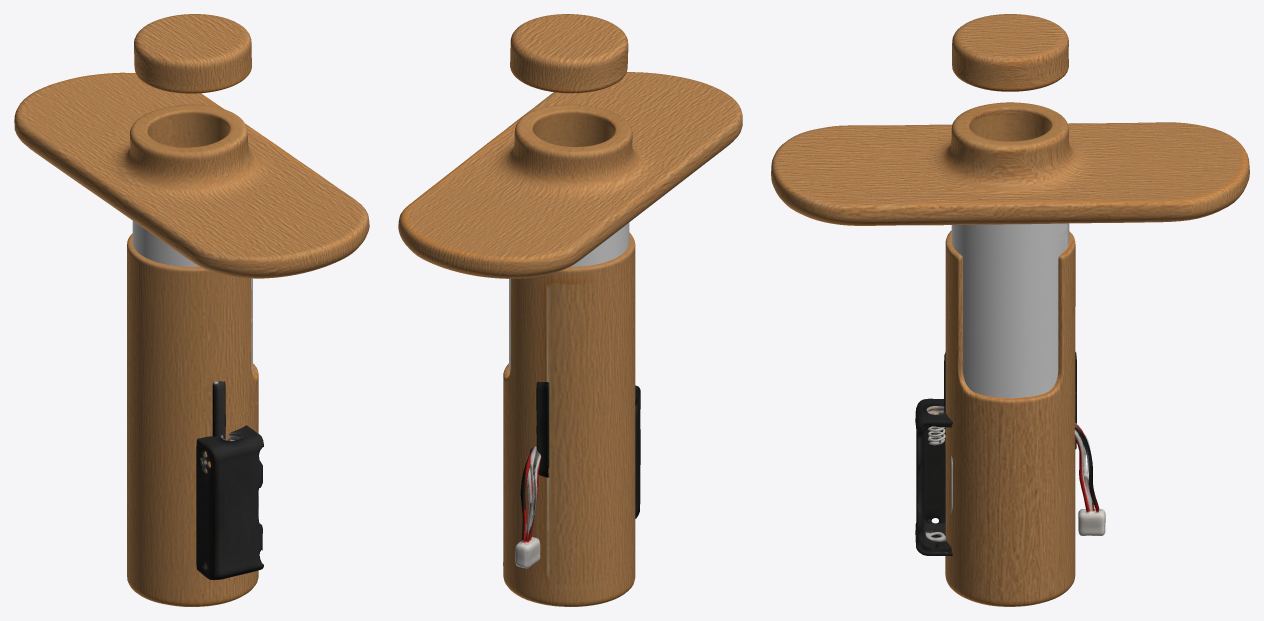
The model's file is lamp_01_assembly.glb.
The picture shows the model from 3 angles, left to right: view 1: azimuth 30°, elevation 25°; view 2: azimuth 150°, elevation 25°; view 3: azimuth 270°, elevation 25°; orthographic projection.
Visible parts, largest first — view 1: Ljomveg_Shade, Ljomveg_Trunk, Ljomveg_Battery, Ljomveg_Finial, Ljomveg_Diffuser, micro-bit; view 2: Ljomveg_Shade, Ljomveg_Trunk, Ljomveg_Finial, Ljomveg_Battery, micro-bit, Ljomveg_Diffuser; view 3: Ljomveg_Shade, Ljomveg_Trunk, Ljomveg_Diffuser, Ljomveg_Finial, Ljomveg_Battery.
Boxes of the visible parts, x1,y1,x2,y2 form: Ljomveg_Shade: [14, 72, 369, 278]; Ljomveg_Trunk: [127, 233, 258, 606]; Ljomveg_Battery: [196, 425, 263, 579]; Ljomveg_Finial: [134, 14, 251, 93]; Ljomveg_Diffuser: [132, 221, 252, 374]; micro-bit: [212, 381, 225, 439]; Ljomveg_Shade: [398, 72, 742, 278]; Ljomveg_Trunk: [503, 232, 635, 606]; Ljomveg_Finial: [510, 14, 628, 93]; Ljomveg_Battery: [515, 385, 640, 568]; micro-bit: [536, 381, 549, 477]; Ljomveg_Diffuser: [509, 223, 629, 374]; Ljomveg_Shade: [771, 102, 1249, 225]; Ljomveg_Trunk: [945, 230, 1075, 606]; Ljomveg_Diffuser: [951, 223, 1069, 398]; Ljomveg_Finial: [952, 14, 1068, 91]; Ljomveg_Battery: [915, 398, 1105, 555].
Size of the model in its own units: 0.0793 by 0.2314 by 0.1839.
Materials: 1 (1 with a texture image).
